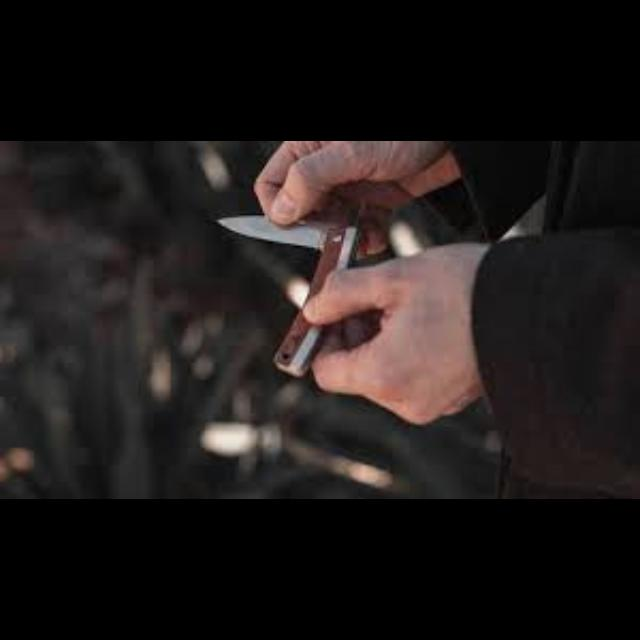knife: (262, 152, 640, 500), (296, 263, 482, 413), (216, 218, 360, 378), (214, 212, 358, 254)
